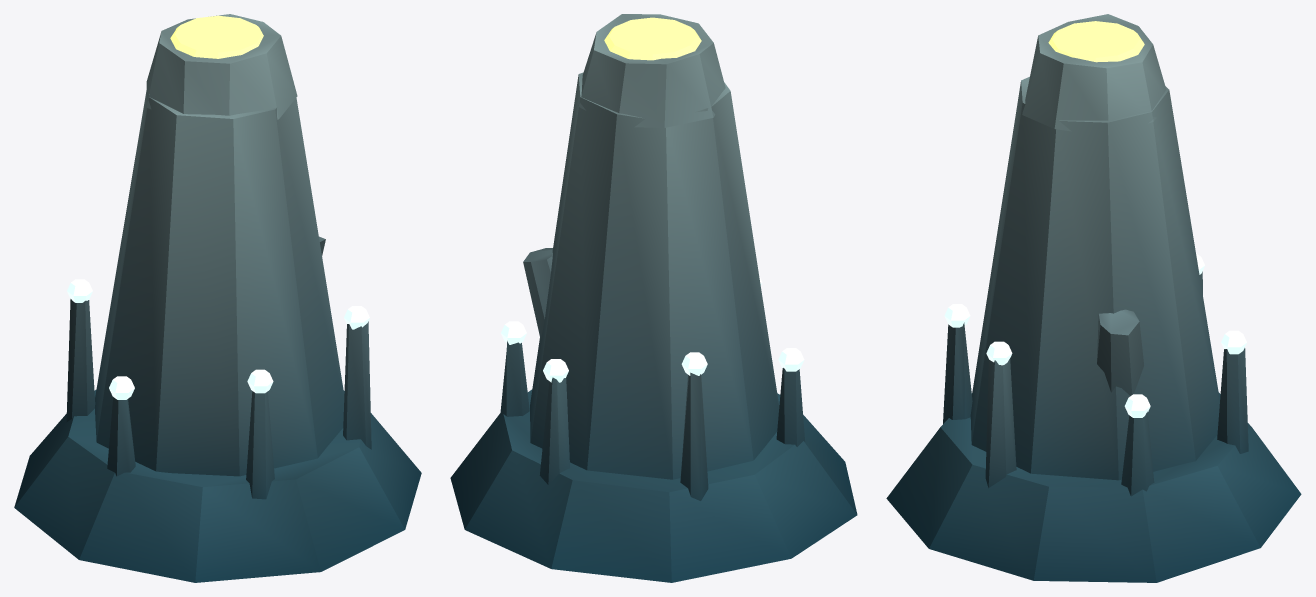
The model's file is prop_vent_chimney.glb.
3 renders of one model, left to right at view 1: azimuth 30°, elevation 25°; view 2: azimuth 150°, elevation 25°; view 3: azimuth 270°, elevation 25°, orthographic.
Parts seen in each view (by area): view 1: prop_vent_chimney_stone, prop_vent_chimney_warm, prop_vent_chimney_bio; view 2: prop_vent_chimney_stone, prop_vent_chimney_warm, prop_vent_chimney_bio; view 3: prop_vent_chimney_stone, prop_vent_chimney_warm, prop_vent_chimney_bio.
Boxes of the visible parts, <box> form: prop_vent_chimney_stone: <box>14,14,421,582</box>; prop_vent_chimney_warm: <box>170,15,263,58</box>; prop_vent_chimney_bio: <box>67,279,369,399</box>; prop_vent_chimney_stone: <box>450,14,857,582</box>; prop_vent_chimney_warm: <box>604,17,701,60</box>; prop_vent_chimney_bio: <box>501,276,804,382</box>; prop_vent_chimney_stone: <box>886,14,1301,582</box>; prop_vent_chimney_warm: <box>1048,21,1144,62</box>; prop_vent_chimney_bio: <box>944,253,1246,417</box>.
Size of the model in its own units: 3.64 by 4.65 by 3.81.
